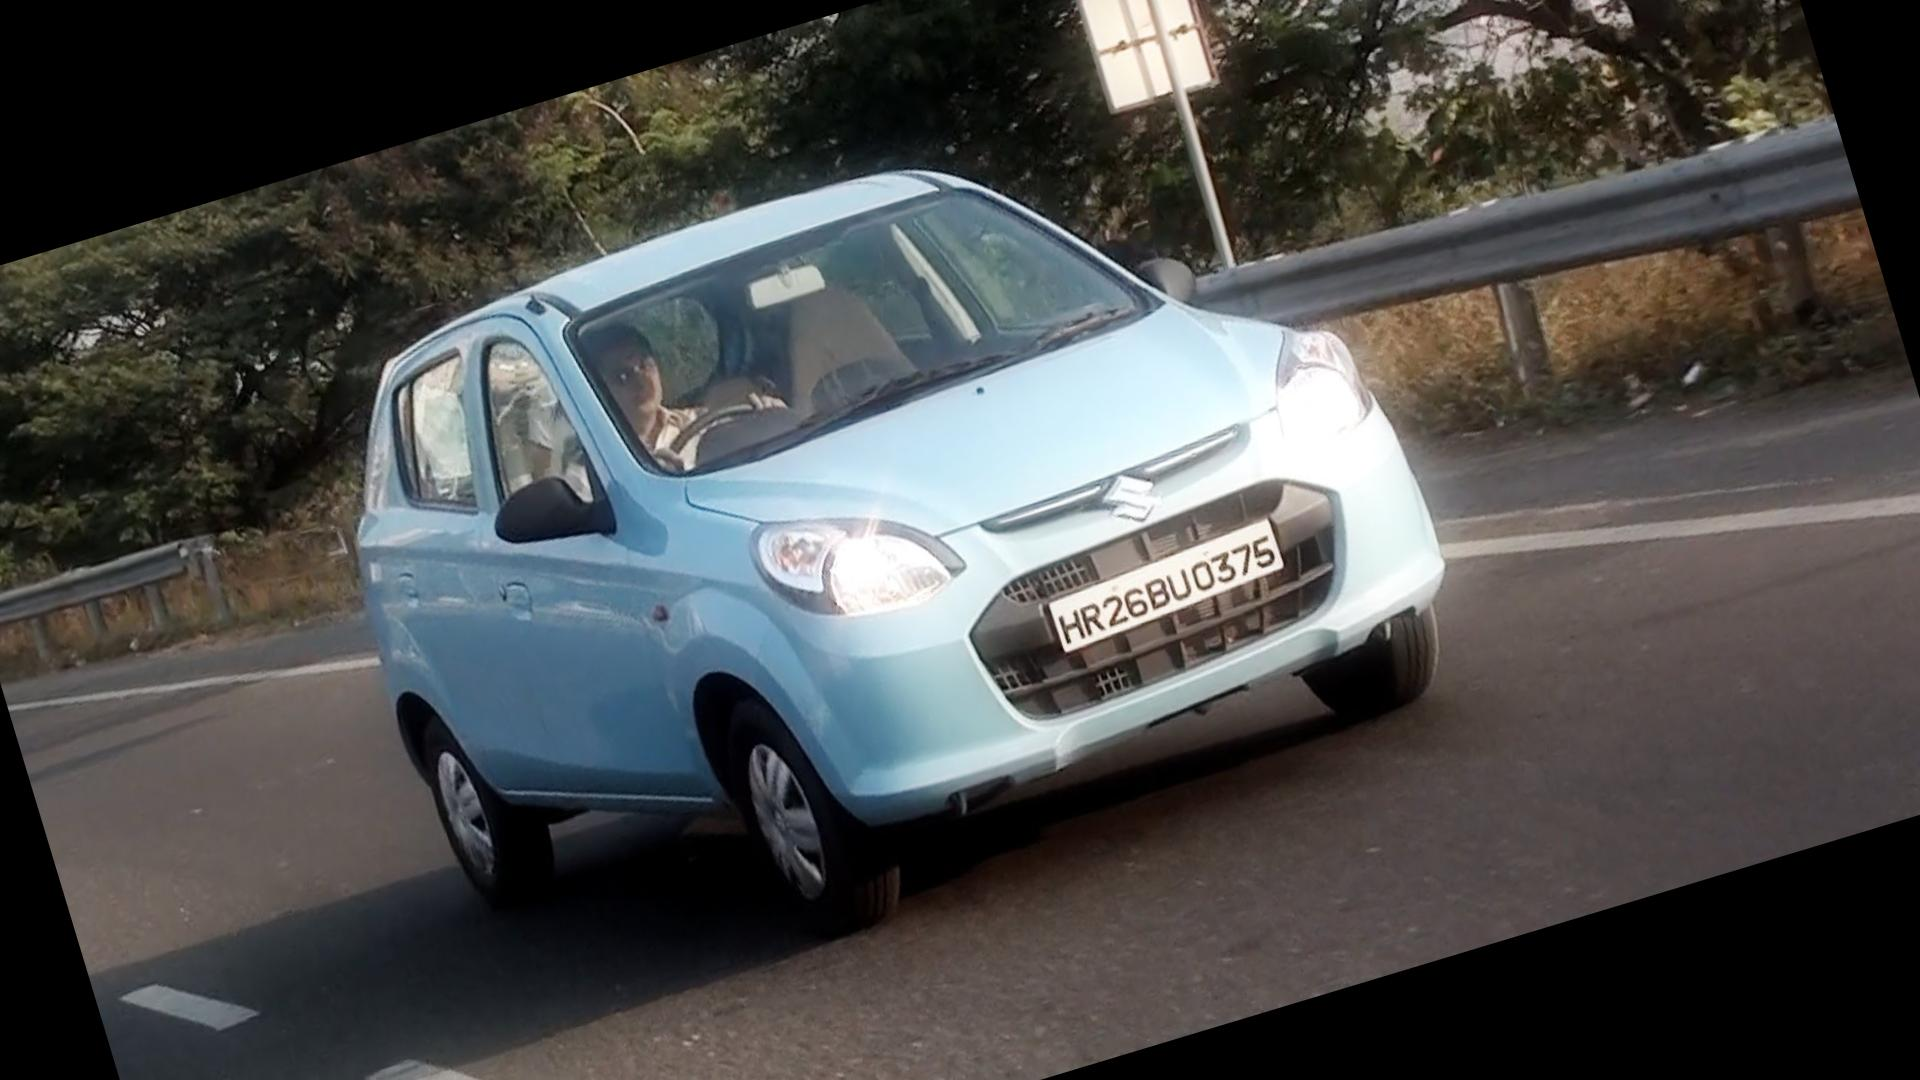plate: (1036, 521, 1298, 654)
